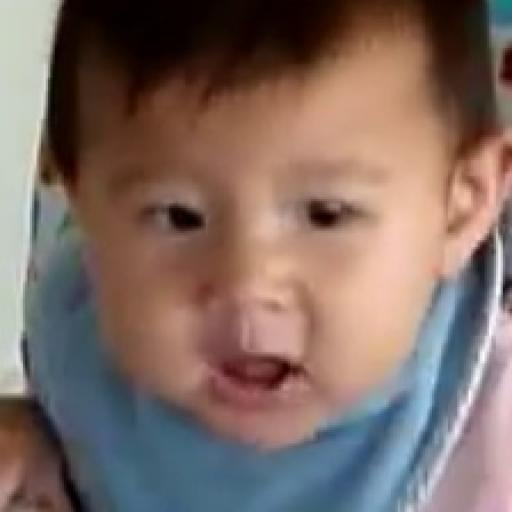Autism: (93, 29, 512, 487)
